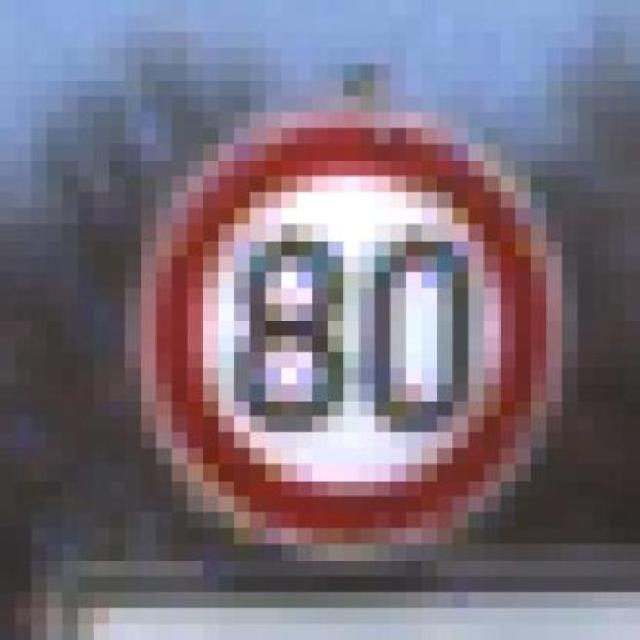forb_speed_over_80: (164, 132, 559, 549)
